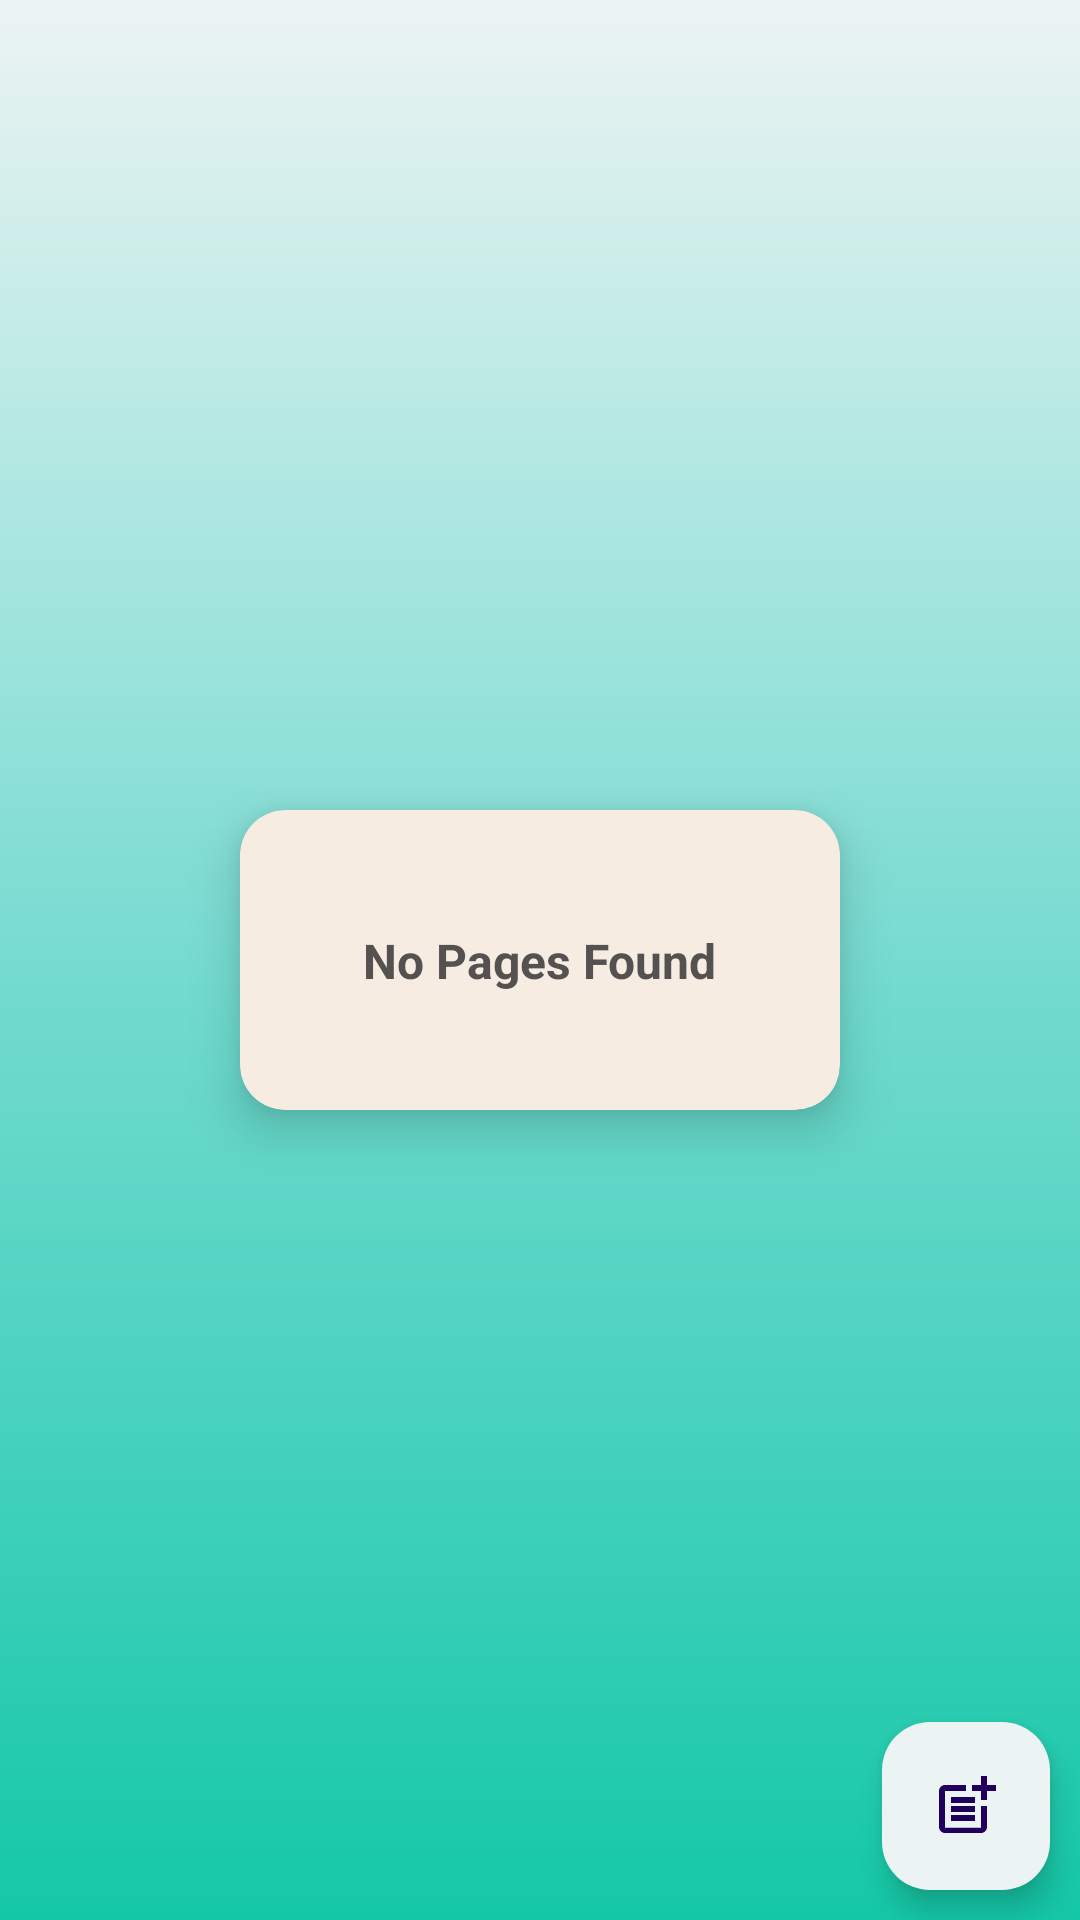

Icons on this 1080*1920 Android screen, each with the point to tap as (x=x, y=y):
post add: (x=966, y=1806)
